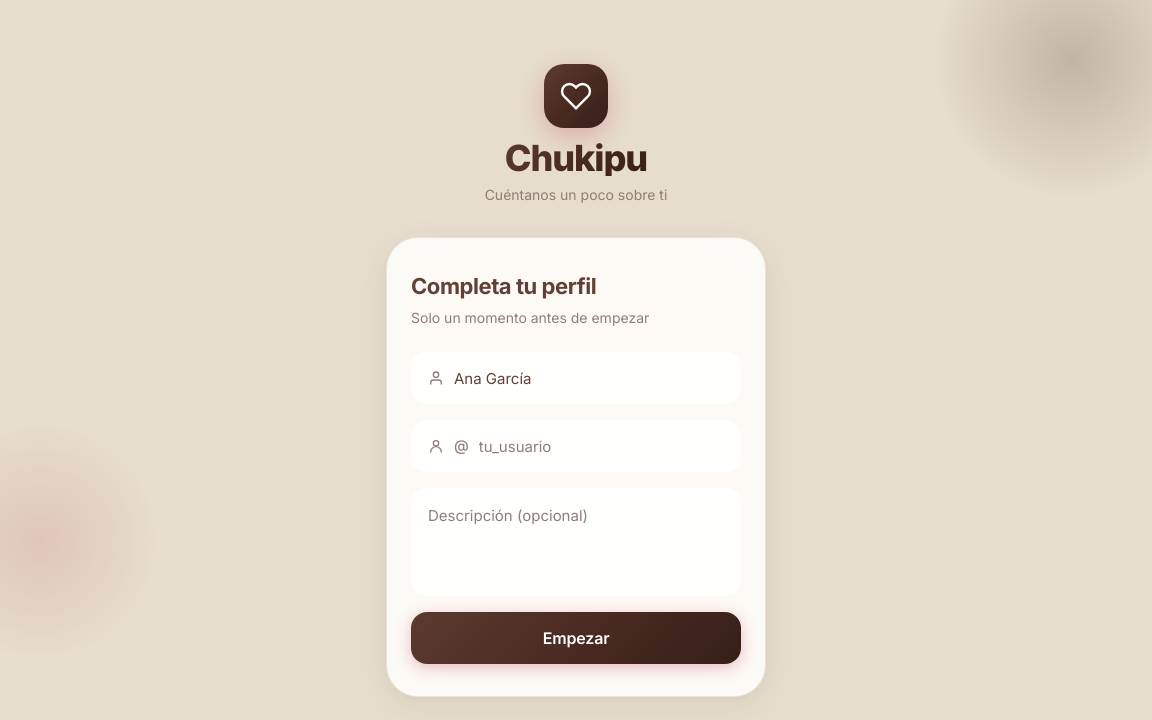
Test case: OnboardingPage › shows validation error for invalid username format — if this fails, bad usernames can be saved
Type "AB" into the field with placeholder "tu_usuario" at (601, 446), box top-left (479, 421), bottom-right (724, 471)
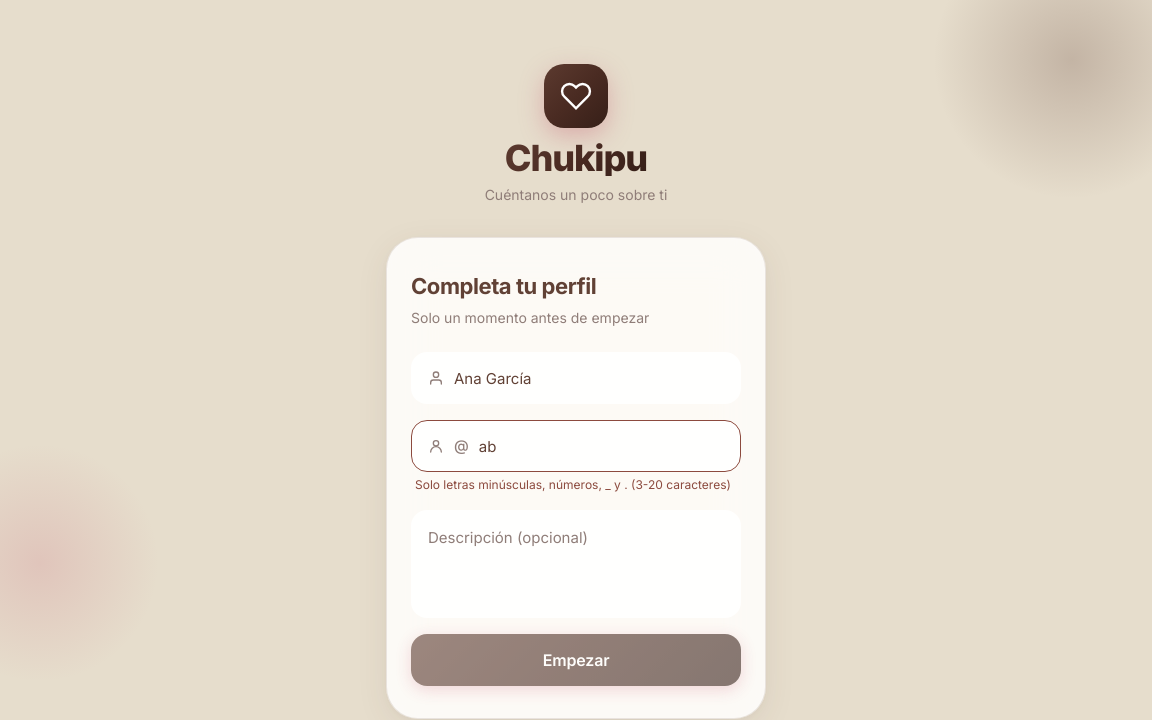
Expected: the text "Solo letras minúsculas, números, _ y . (3-20 caracteres)" is shown, top-left (411, 476), bottom-right (741, 494)
